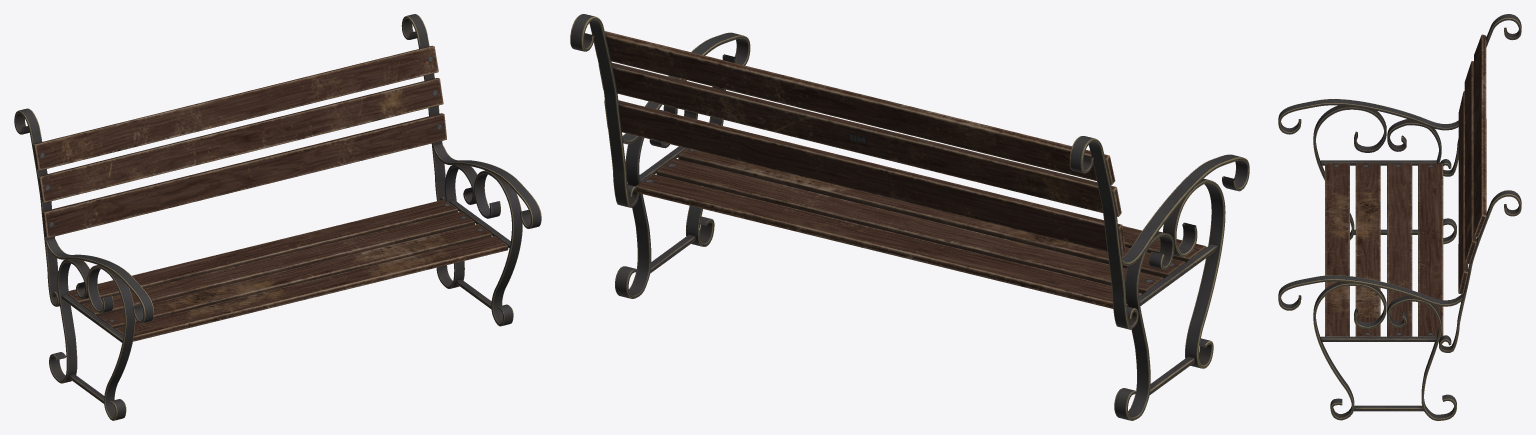
Rendered from downloaded_bench.glb.
3 renders of one model, left to right at view 1: azimuth 30°, elevation 25°; view 2: azimuth 150°, elevation 25°; view 3: azimuth 270°, elevation 25°, orthographic. The views are drawn at different scales.
Visible parts, largest first — view 1: Model; view 2: Model; view 3: Model.
Boxes of the visible parts, <box> form: Model: <box>14,14,541,420</box>; Model: <box>570,14,1249,420</box>; Model: <box>1278,14,1521,420</box>.
Bounding box in the file's own units: 2.32 × 1.35 × 1.31.
Materials: 1 (1 with a texture image).
